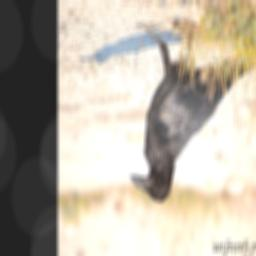Crow: (129, 20, 256, 203)
